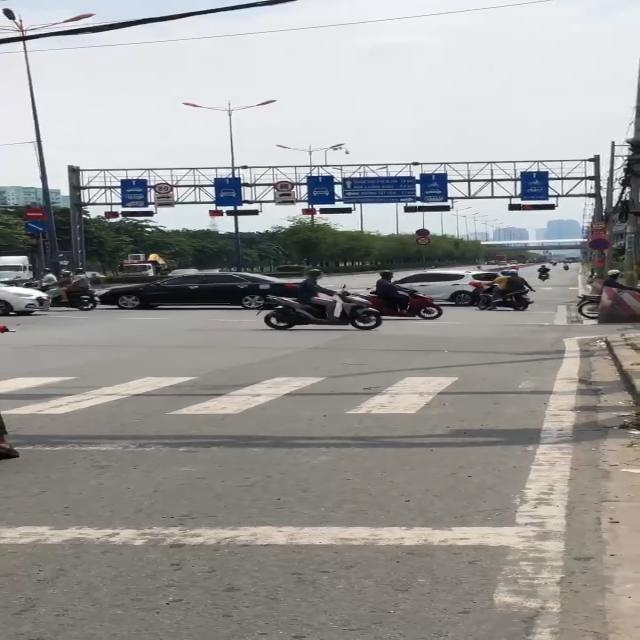Bien bao cam di nguoc chieu: (22, 206, 49, 219)
Bien bao huong phai di vong chuong ngai vat: (24, 220, 46, 232)
Bien bao toc do toi da cho phep: (271, 179, 298, 192), (151, 180, 174, 194)
